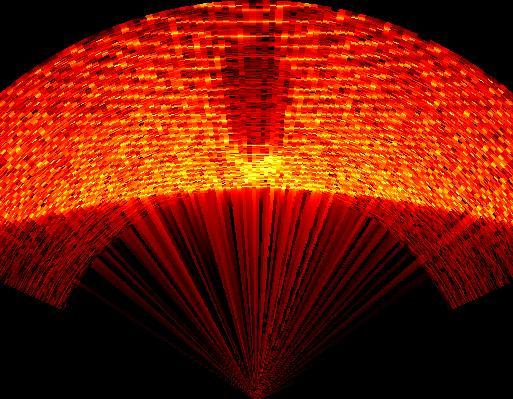box_crate: (220, 32, 292, 184)
